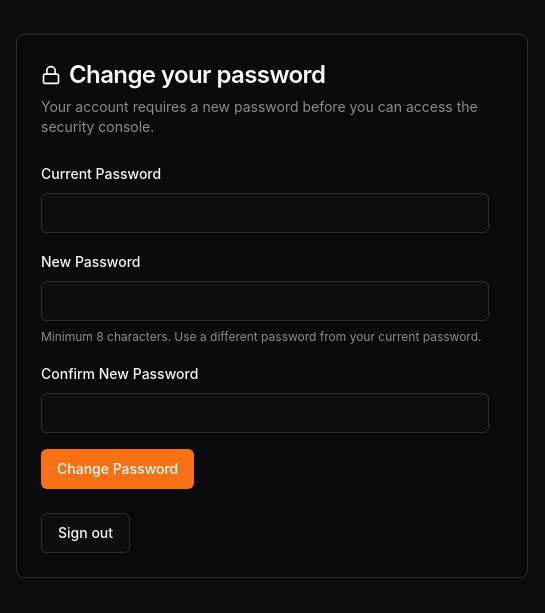
authoritative account routing › keeps the required-password form authenticated after one rejected current password
Type "current-password" into the password field labelled "Current Password" at (265, 213), box [41,193,489,233]
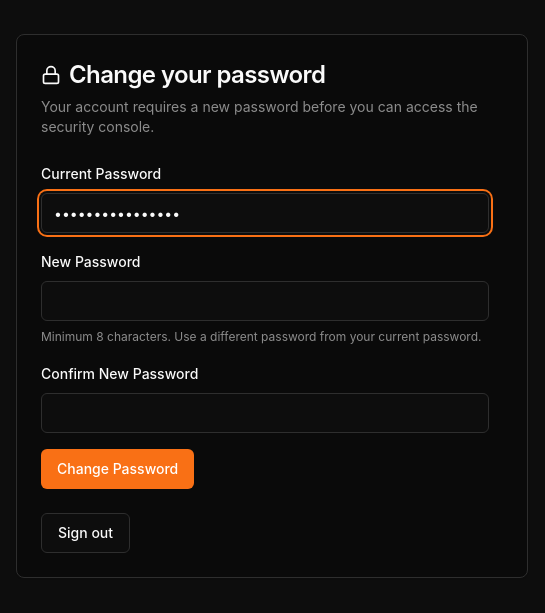
Type "replacement-password" into the password field labelled "New Password" at (265, 301), box [41,281,489,321]
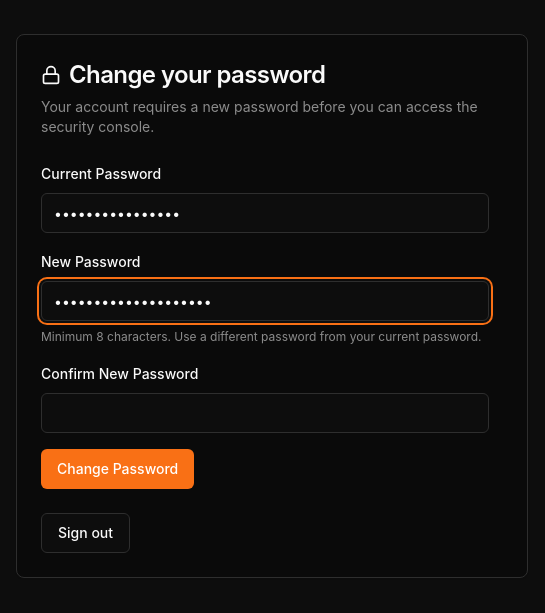
Type "replacement-password" into the password field labelled "Confirm New Password" at (265, 413), box [41,393,489,433]
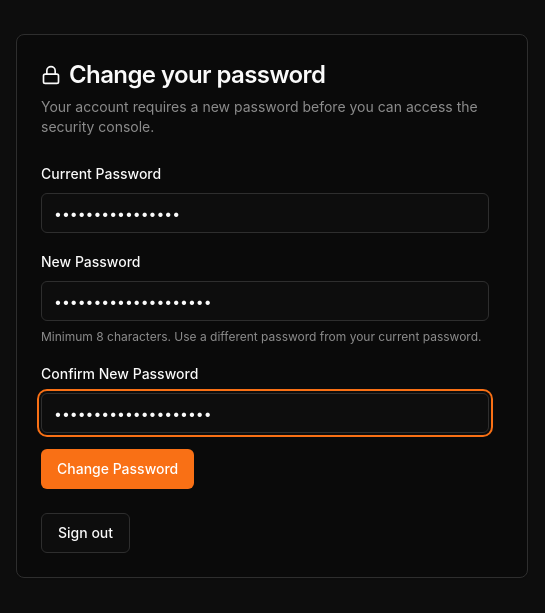
Click the button "Change Password" at (118, 469), box [41,449,194,489]
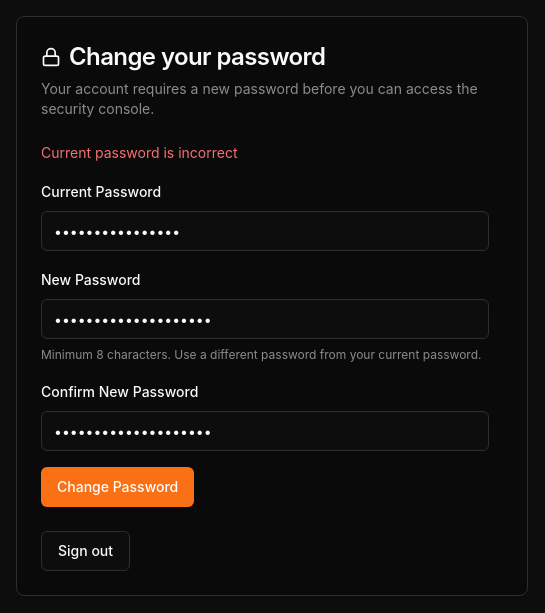
Check: the message reads "Current password is incorrect", box [41,144,238,161]
